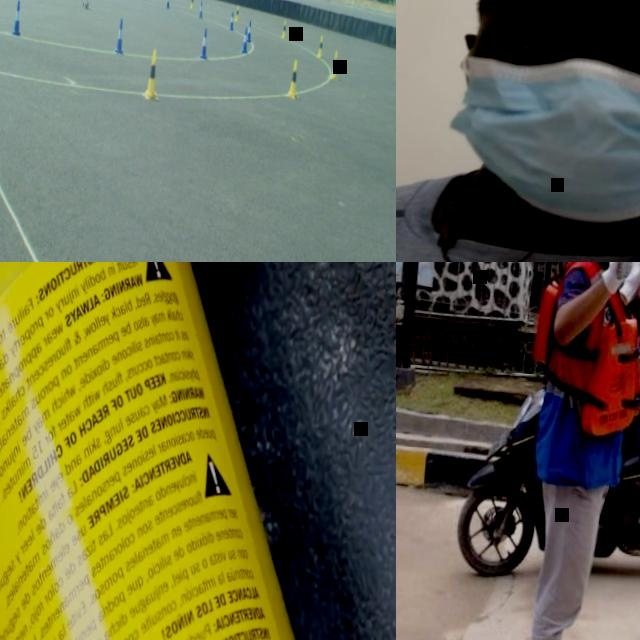Mask: (444, 52, 640, 231)
NO-Safety Vest: (396, 190, 640, 262)
Person: (396, 0, 640, 262), (508, 262, 640, 640)
Safety Cone: (144, 48, 161, 99), (287, 56, 301, 98), (114, 18, 125, 54), (11, 0, 22, 34), (199, 28, 209, 58), (330, 49, 339, 78), (241, 27, 249, 52), (317, 34, 324, 58), (246, 19, 253, 41), (280, 18, 287, 37), (229, 10, 235, 29), (199, 1, 204, 17), (234, 5, 239, 20), (165, 0, 170, 7), (190, 0, 194, 6)
Safety Vest: (531, 262, 640, 432)
